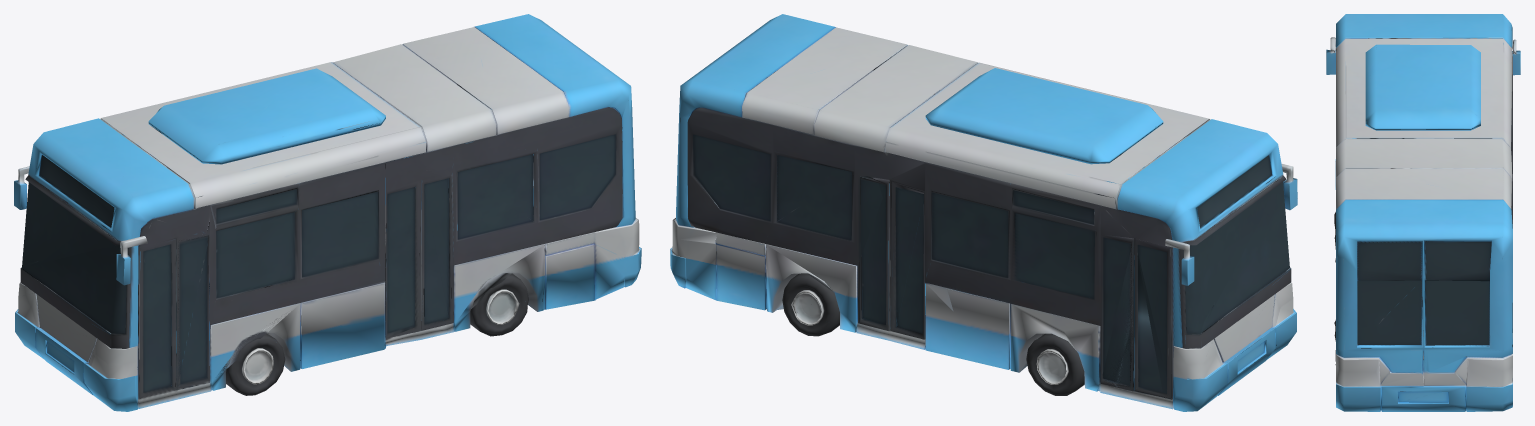
File: 46-city-bus.glb
3 views of the same model, side by side, from view 1: azimuth 30°, elevation 25°; view 2: azimuth 150°, elevation 25°; view 3: azimuth 270°, elevation 25° (orthographic). The views are drawn at different scales.
Visible parts, largest first — view 1: geometry_0; view 2: geometry_0; view 3: geometry_0.
Part boxes in pixels (x1=…): geometry_0: x1=14, y1=14, x2=641, y2=411; geometry_0: x1=670, y1=14, x2=1297, y2=411; geometry_0: x1=1326, y1=14, x2=1520, y2=411.
Bounding box in the file's own units: 0.9575 × 0.4082 × 0.3384.
Materials: 1 (1 with a texture image).
